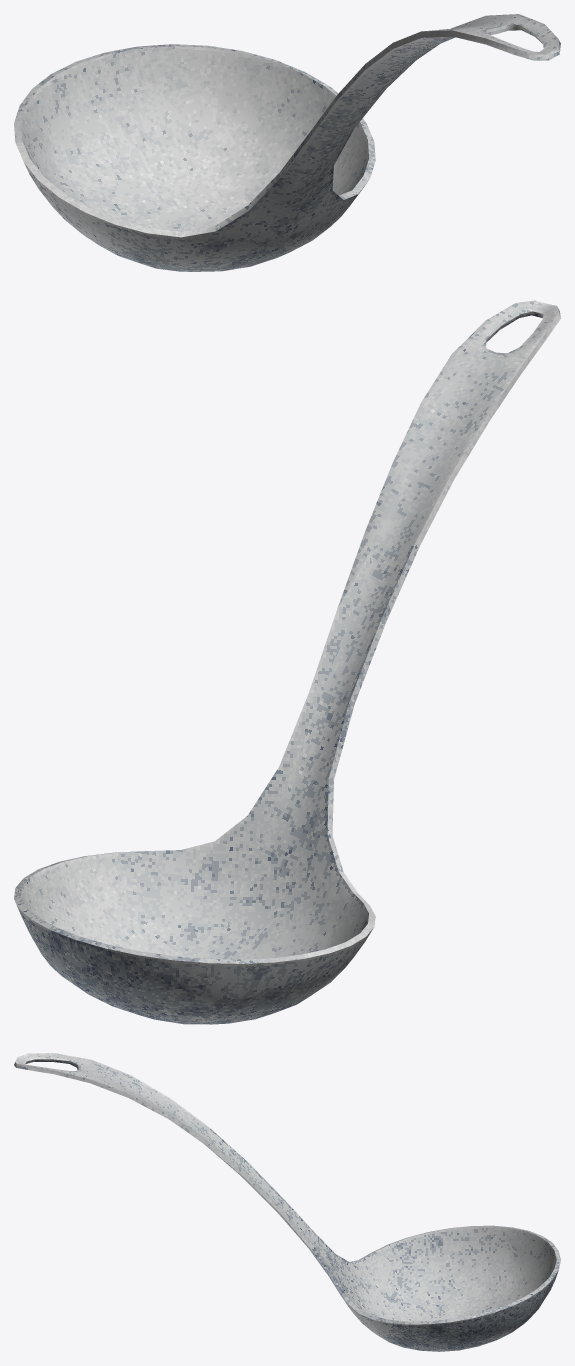
Rendered from ladle_steel.glb.
3 renders of one model, top to bottom at view 1: azimuth 30°, elevation 25°; view 2: azimuth 150°, elevation 25°; view 3: azimuth 270°, elevation 25°, orthographic. The views are drawn at different scales.
Visible parts, largest first — view 1: mesh; view 2: mesh; view 3: mesh.
Boxes of the visible parts, x1,y1,x2,y2 form: mesh: (14, 14, 560, 271); mesh: (14, 300, 560, 1024); mesh: (14, 1053, 560, 1351).
Bounding box in the file's own units: 0.2178 × 0.3 × 0.5338.
1 material, 1 textured.
